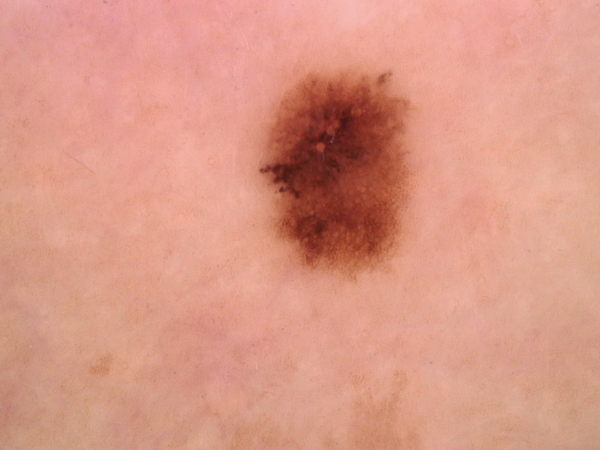Color changes: (262, 149, 296, 185)
